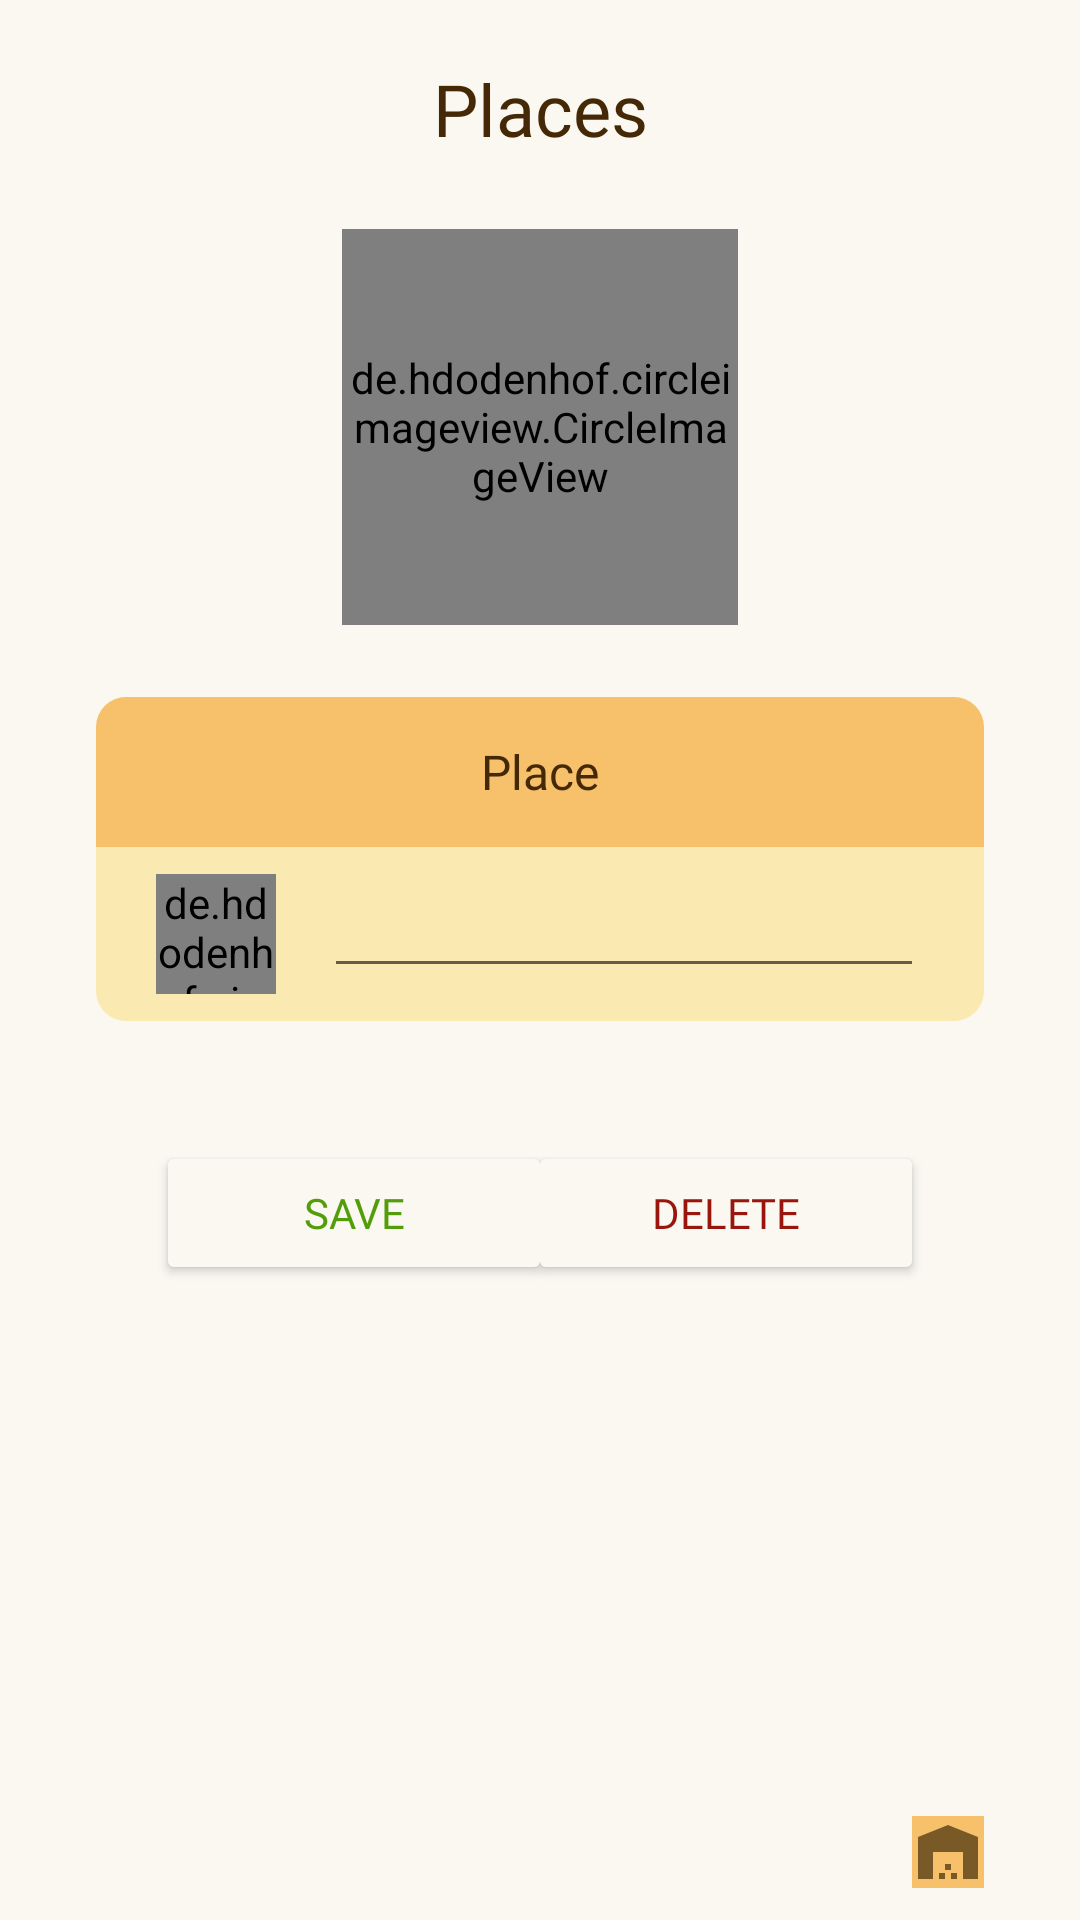

Icon bounding boxes for this 1080px×1920px phone screenshot, format [x1,y1,x2,y2]:
warehouse brown: [912,1816,984,1888]
